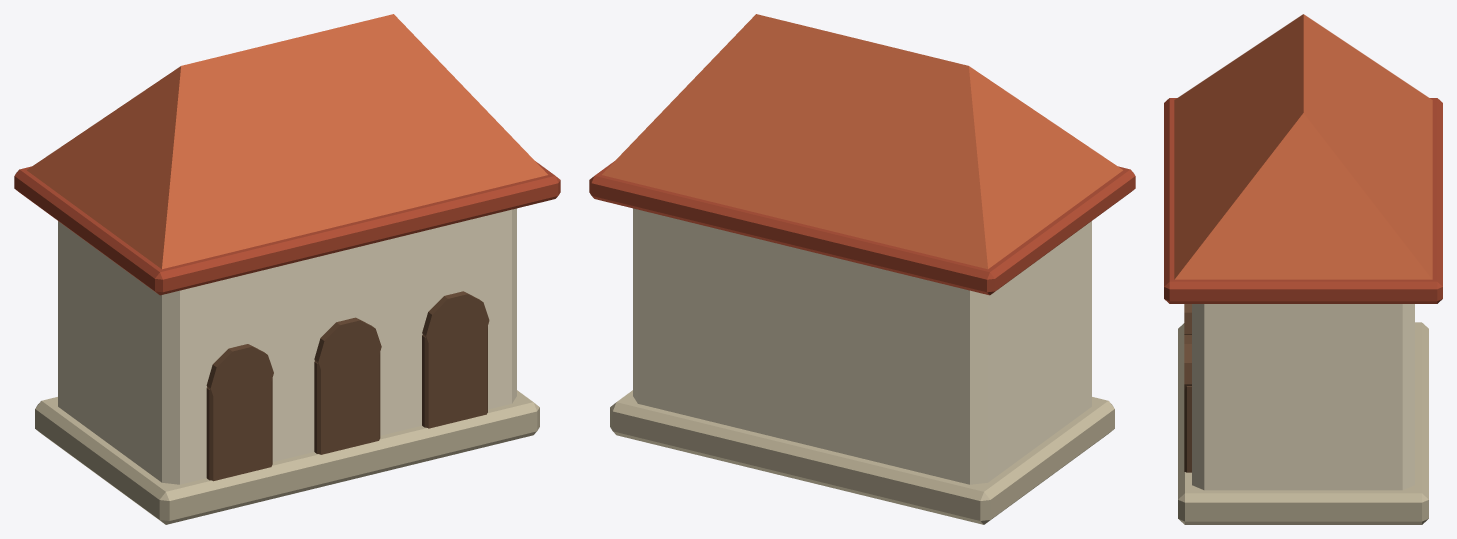
Rendered from ns-house-3c.glb.
The picture shows the model from 3 angles, left to right: view 1: azimuth 30°, elevation 25°; view 2: azimuth 150°, elevation 25°; view 3: azimuth 270°, elevation 25°; orthographic projection. The views are drawn at different scales.
Visible parts, largest first — view 1: Cube; view 2: Cube; view 3: Cube.
Boxes of the visible parts, x1,y1,x2,y2 form: Cube: (14,14,560,524); Cube: (589,14,1135,524); Cube: (1164,14,1442,524).
Bounding box in the file's own units: 0.64 × 0.595 × 0.4.
